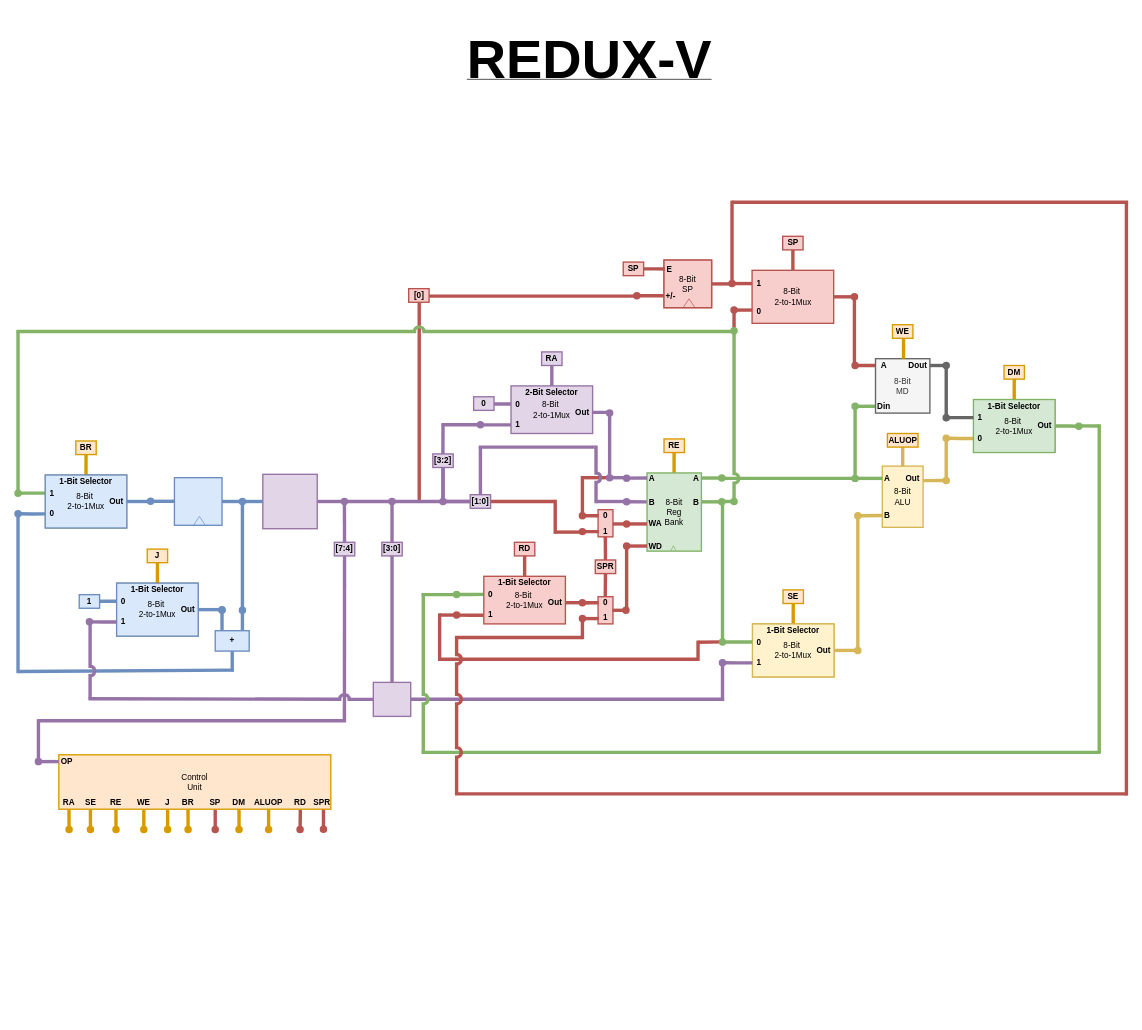
Some shapes in this 1142 by 1030 pixel diagram are drawn without their labels. The shapes that lost their labels are listed below. From the top down, each one's centre as x and y in pixels, then its label:
point (197, 501): 8-Bit PC
point (290, 501): 8-Bit MI
point (391, 699): 4-to-8 Sign Extender
